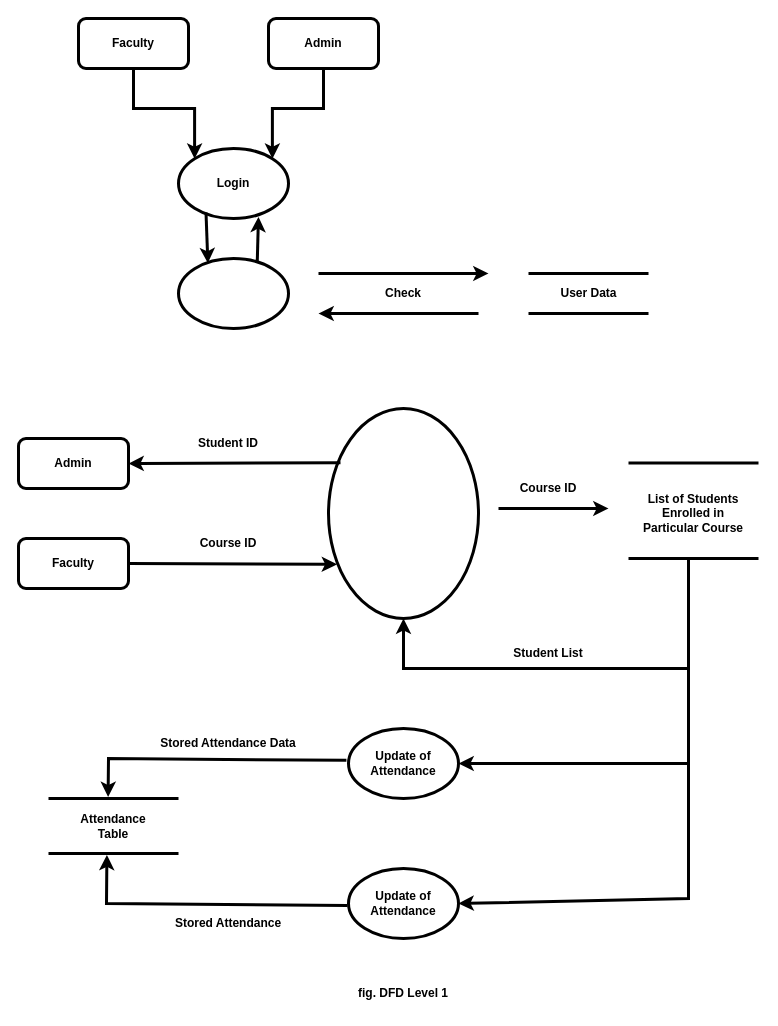
This 778x1026 diagram has some shape labels left out. The box of each missing label's shape, as (x1, y1, x2, y2) in pixels:
Authentication: (176, 256, 290, 330)
View Enrolled Students: (326, 406, 480, 620)
